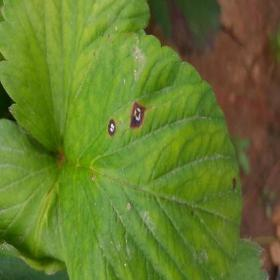Leaf Spot: (57, 30, 242, 279)
